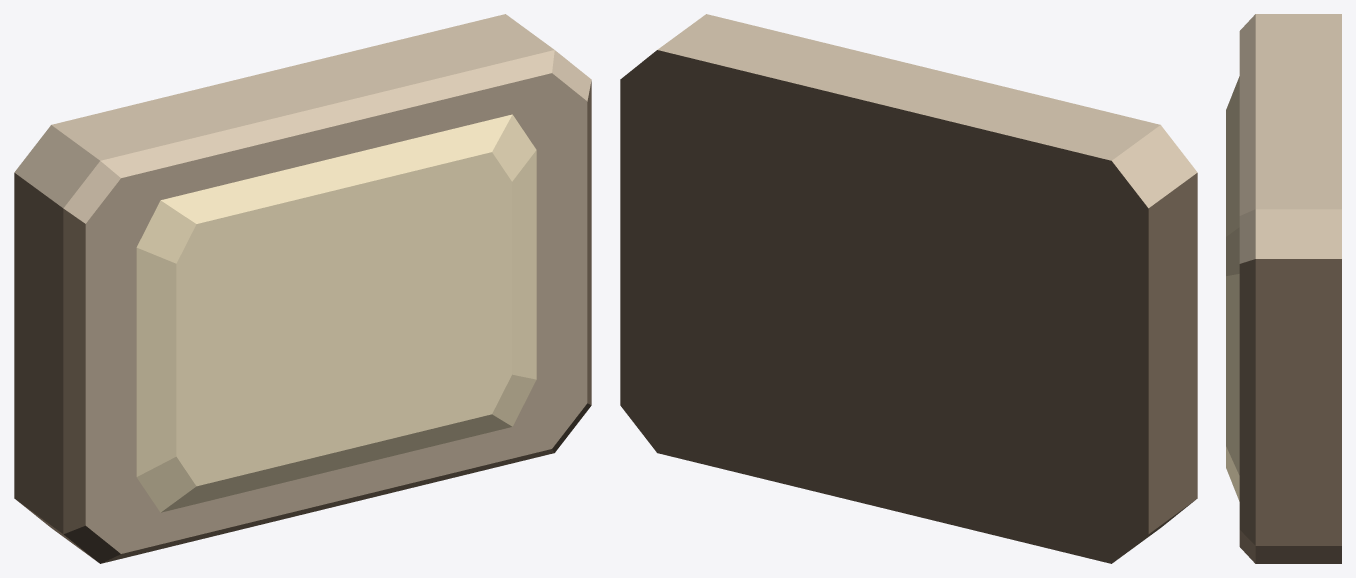
The model's file is CR_WallLamp_1.fbx.
3 views of the same model, side by side, from view 1: azimuth 30°, elevation 25°; view 2: azimuth 150°, elevation 25°; view 3: azimuth 270°, elevation 25° (orthographic). The views are drawn at different scales.
Parts seen in each view (by area): view 1: CR_WallLamp_1; view 2: CR_WallLamp_1; view 3: CR_WallLamp_1.
Boxes of the visible parts, box(x1,y1,x2,y2) form: CR_WallLamp_1: box(14, 14, 591, 563); CR_WallLamp_1: box(620, 14, 1197, 563); CR_WallLamp_1: box(1226, 14, 1341, 563).
Size of the model in its own units: 0.6856 by 0.5 by 0.148.
